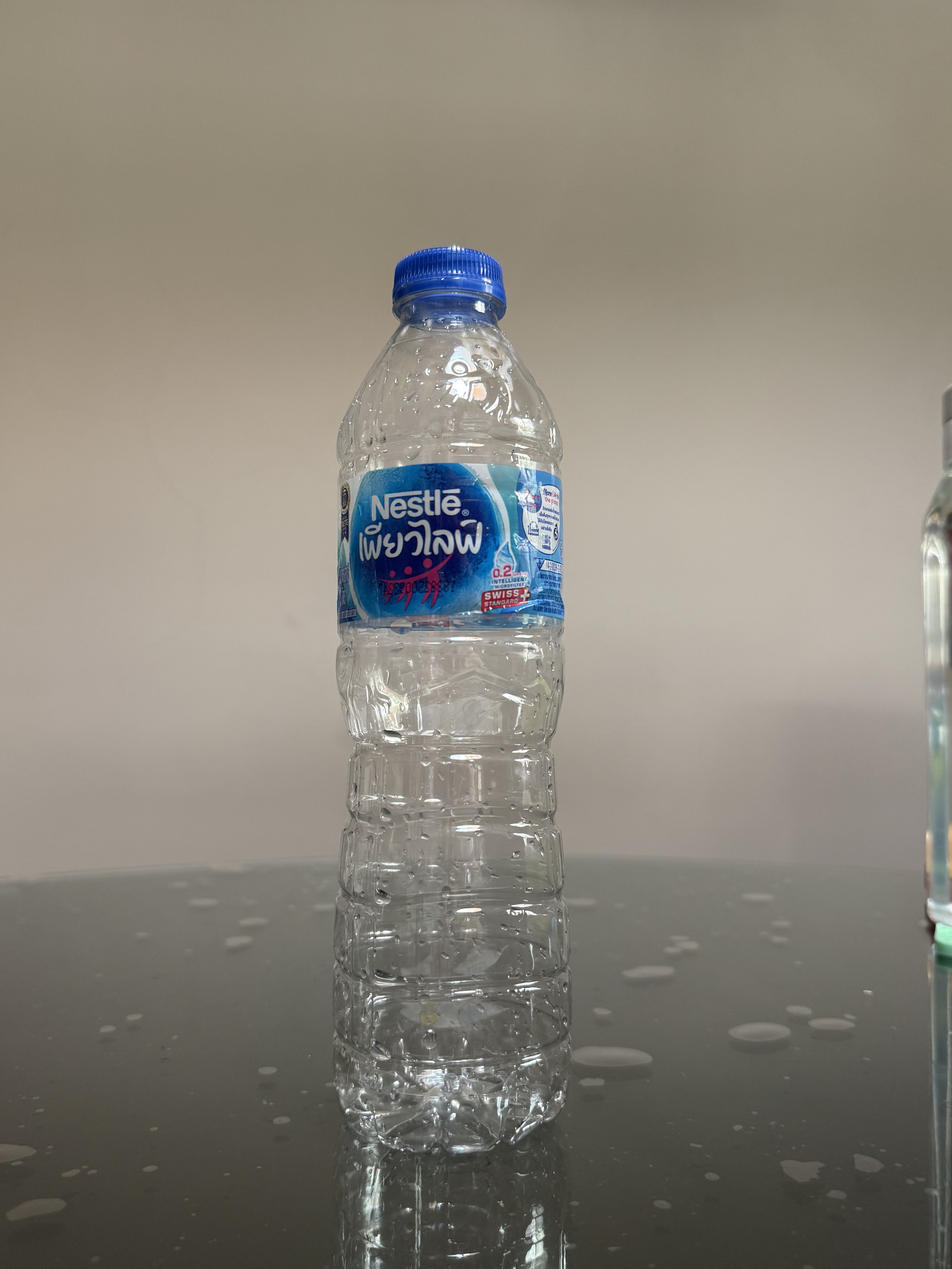closed_cap: (390, 242, 508, 320)
